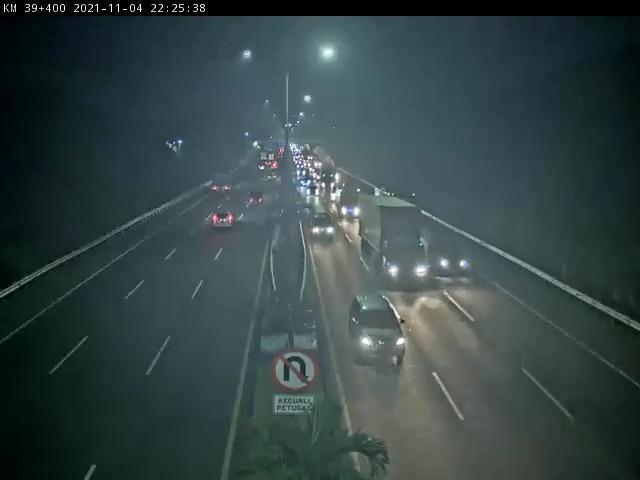car: (347, 294, 409, 372), (429, 226, 473, 276), (311, 213, 340, 241), (210, 210, 237, 234), (246, 189, 269, 207)
truck: (362, 193, 436, 286), (335, 186, 363, 225), (210, 172, 237, 199)
